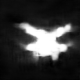plane: (17, 21, 76, 62)
